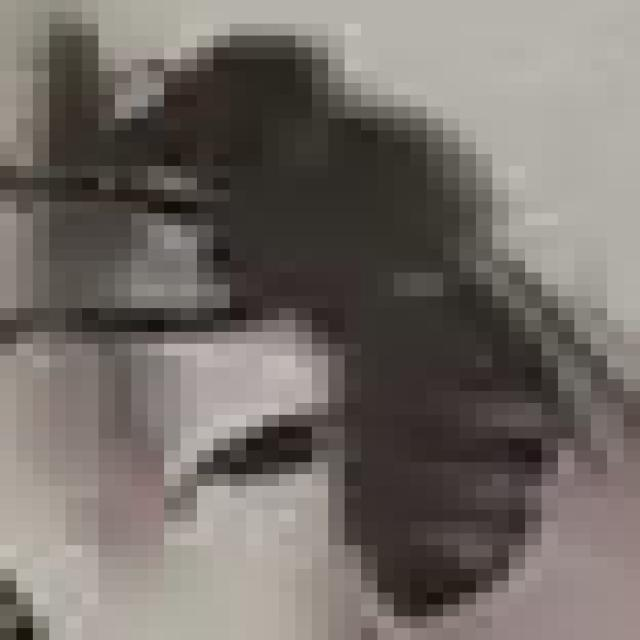honeybee: (23, 39, 581, 572)
